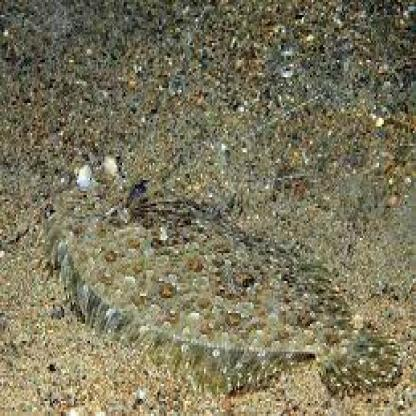flounder: (40, 152, 402, 394)
